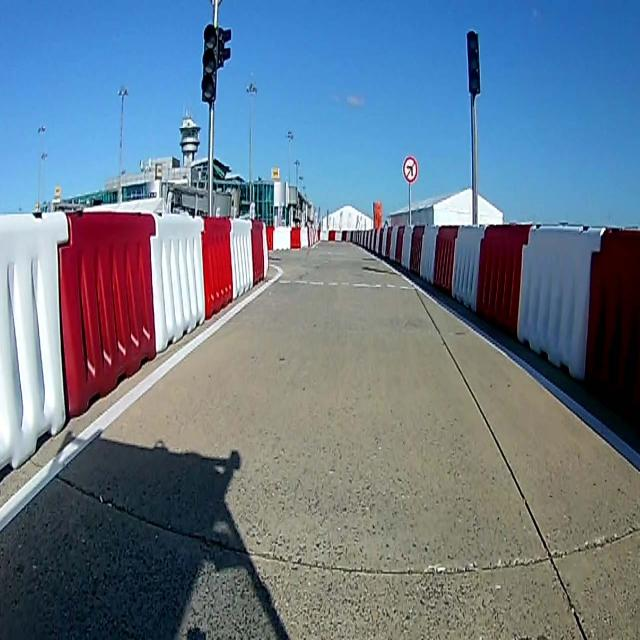soladonulmez: (402, 153, 418, 181)
